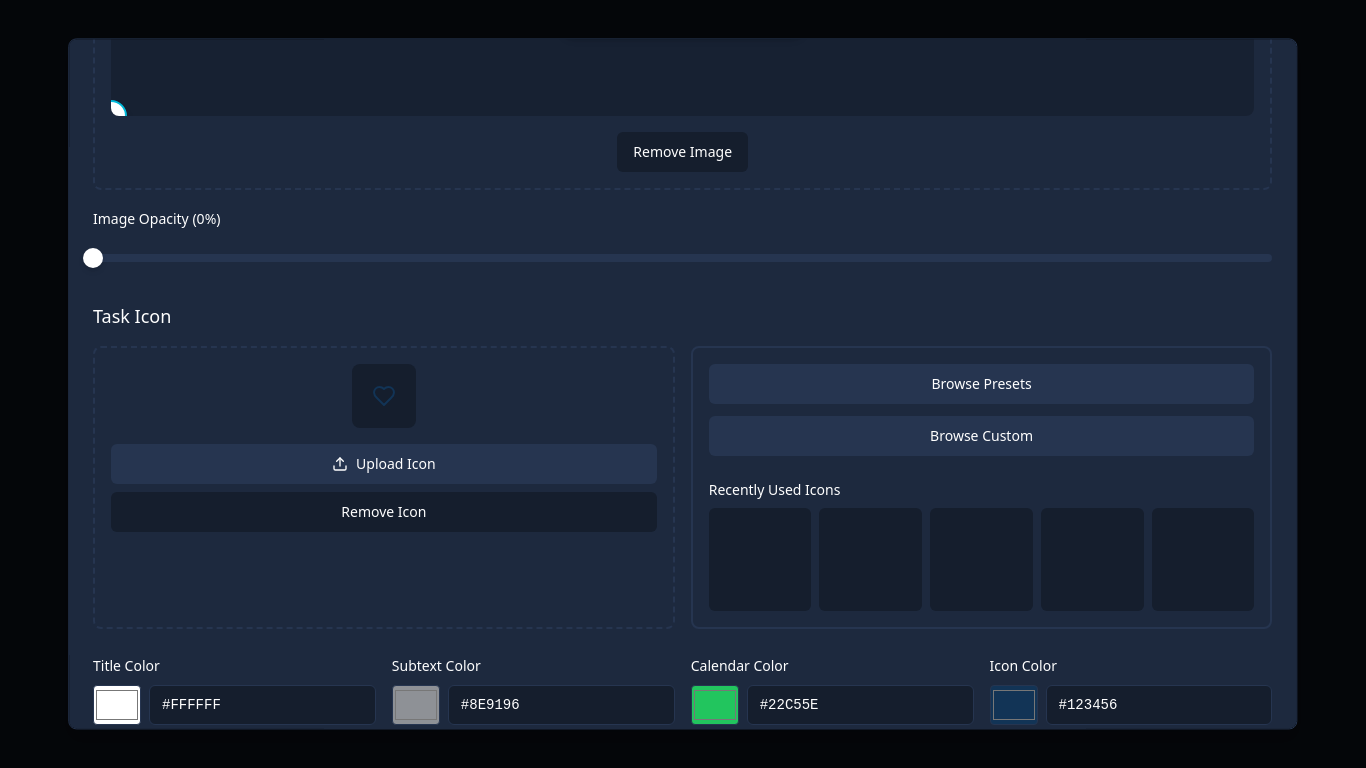
Scenario: actual task editor theme › keeps original nested preset and delete dialog colors, saved icon color and cancellation behavior
(page scrolled)
Click the button "Browse Presets" at (982, 384), box [709,364,1255,404]
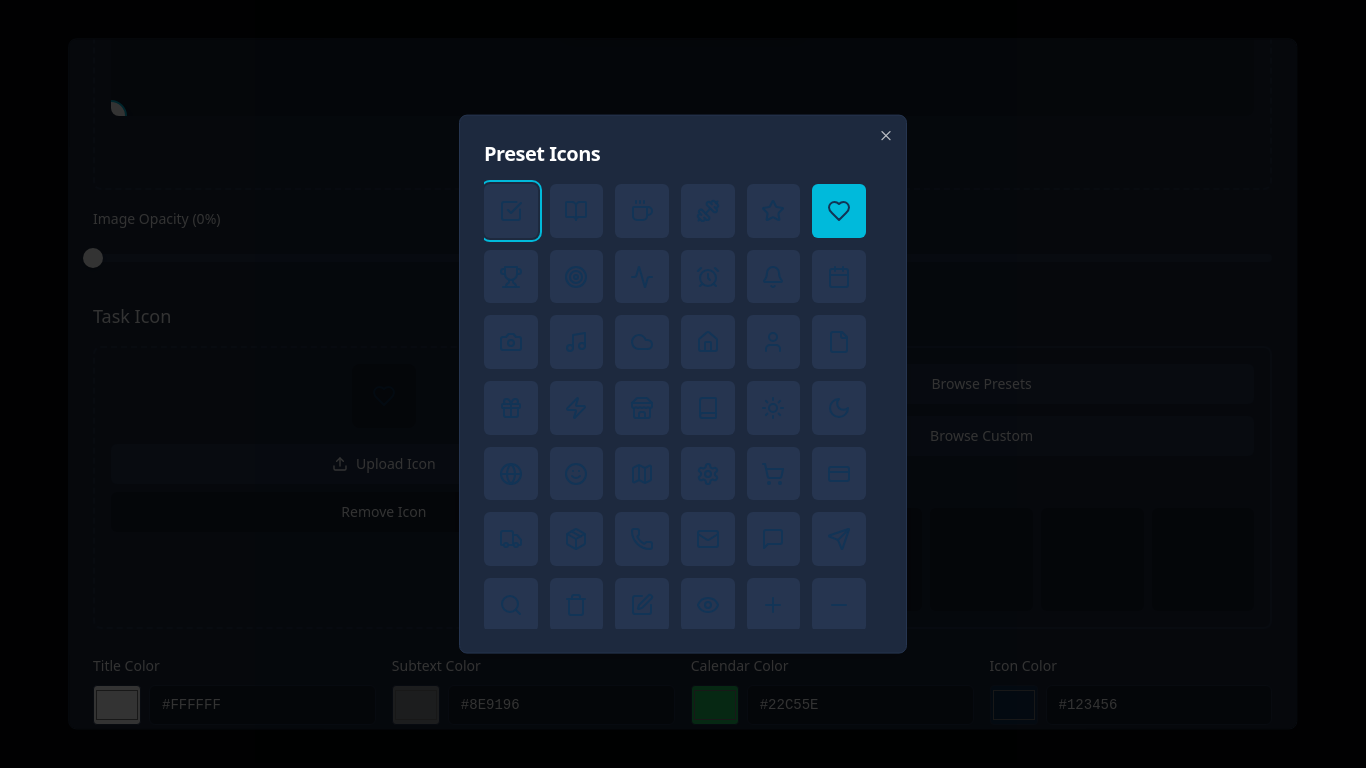
Click the button named "Select Heart icon" at (839, 210), box [812,184,866,237]
(page scrolled)
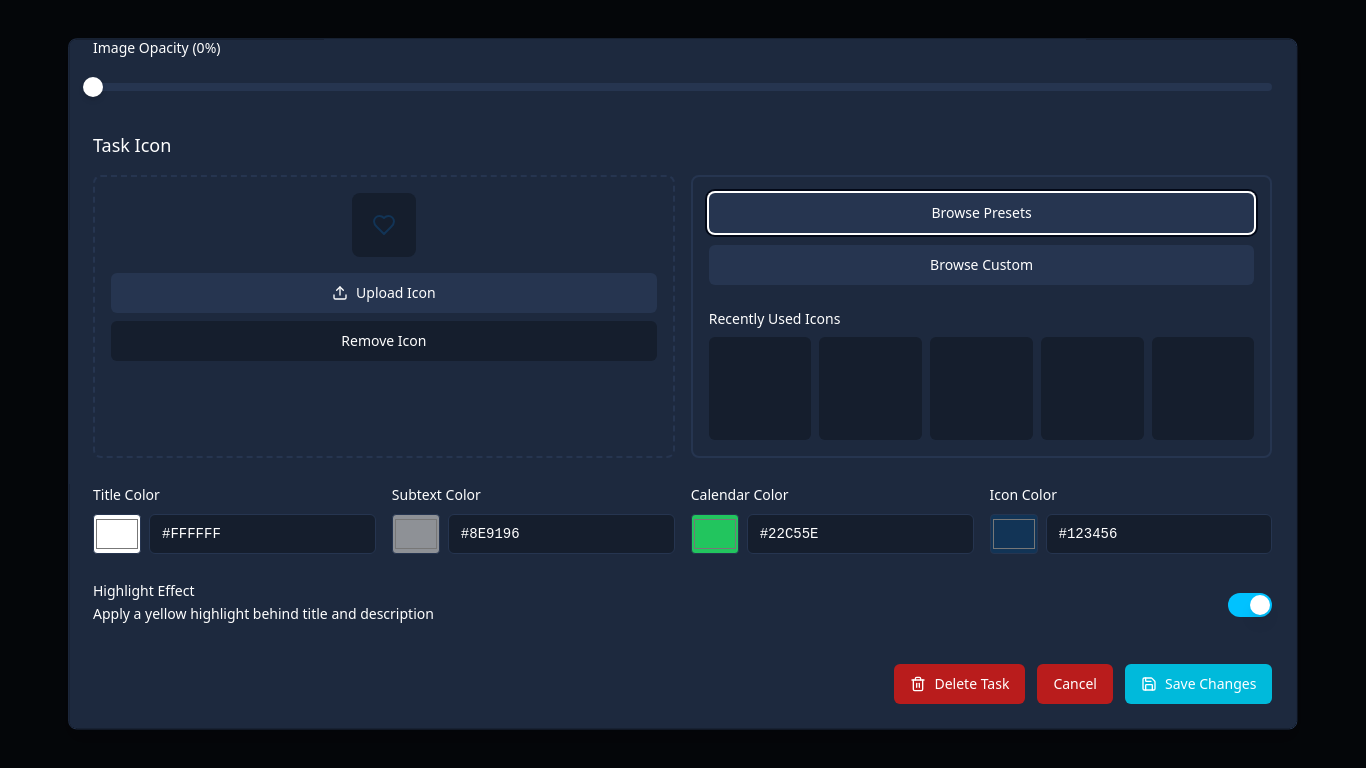
Click the button "Delete Task" at (960, 684), box [895,664,1026,704]
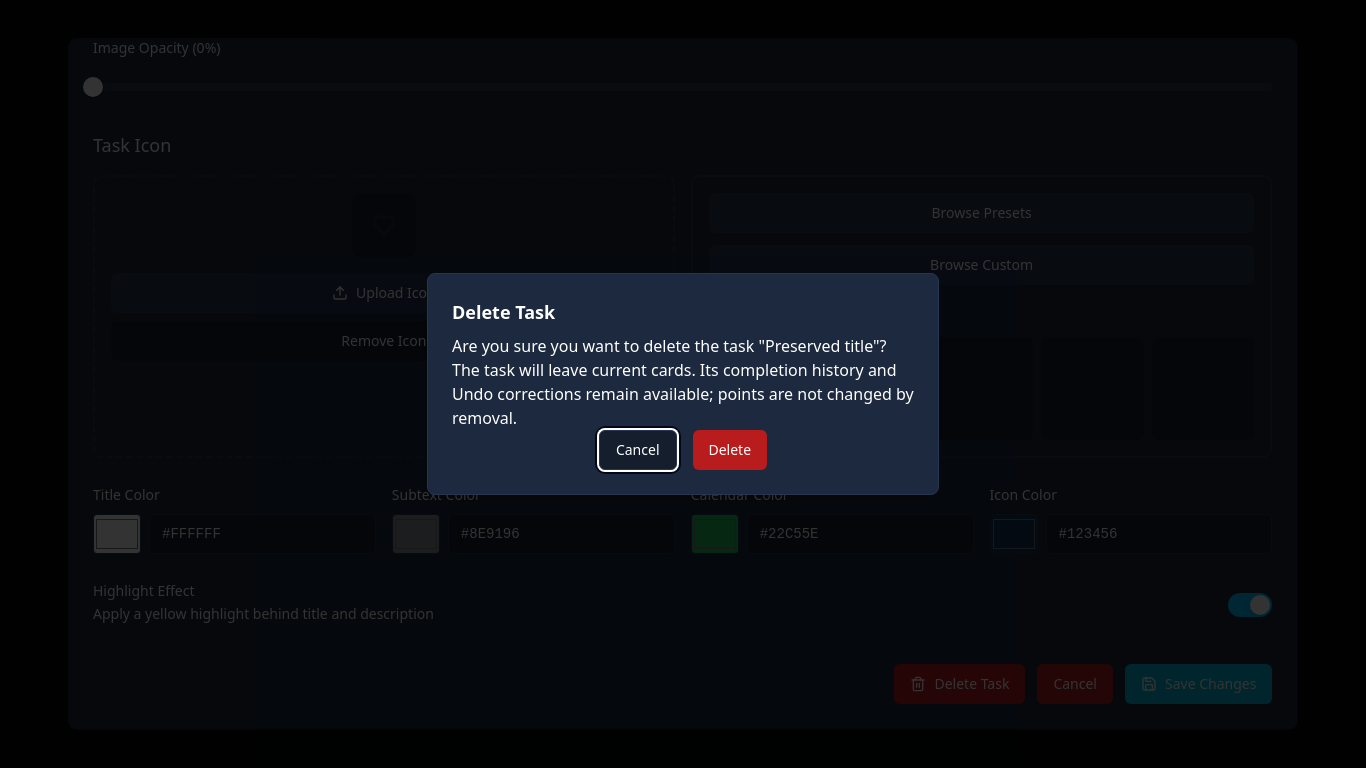
Click the button "Cancel" at (638, 450), box [599,430,676,470]
(page scrolled)
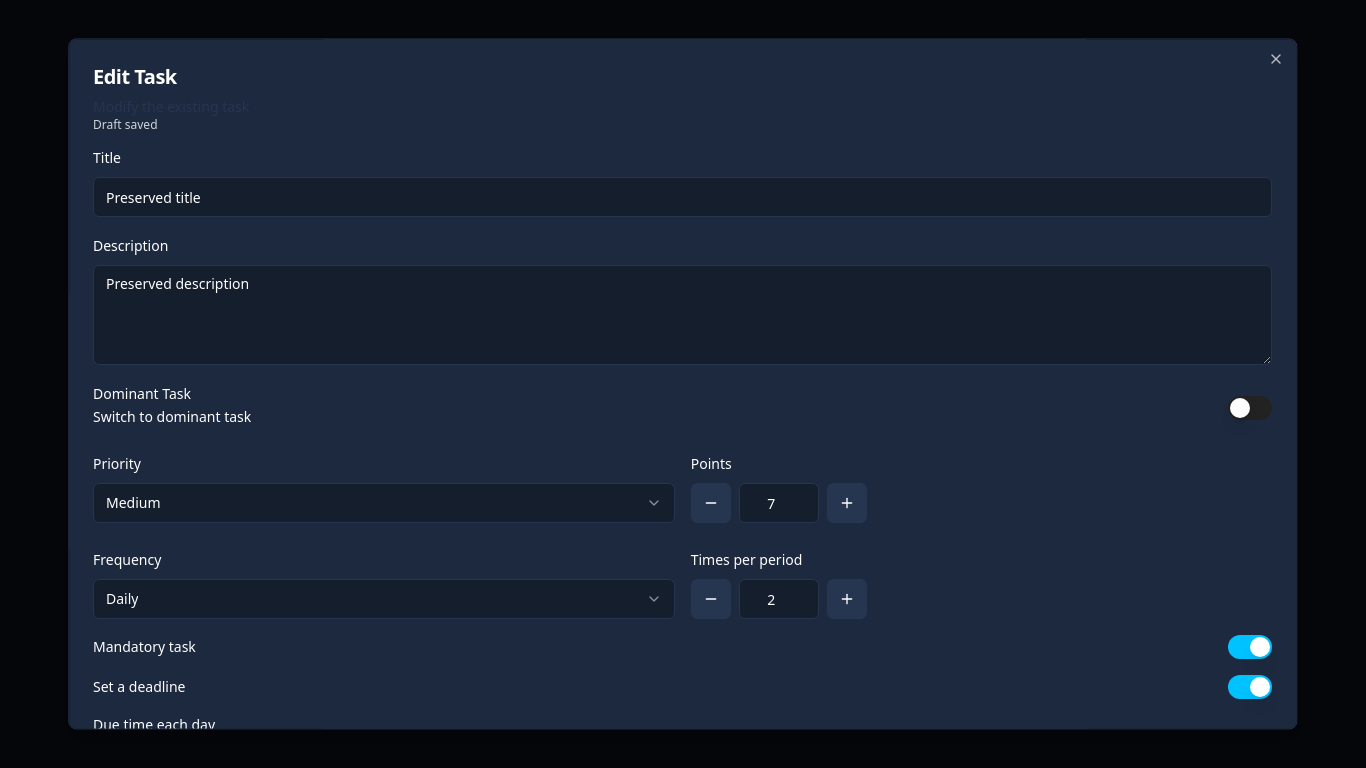
Check: the field labelled "Title" is shown, box [93,177,1273,217]
